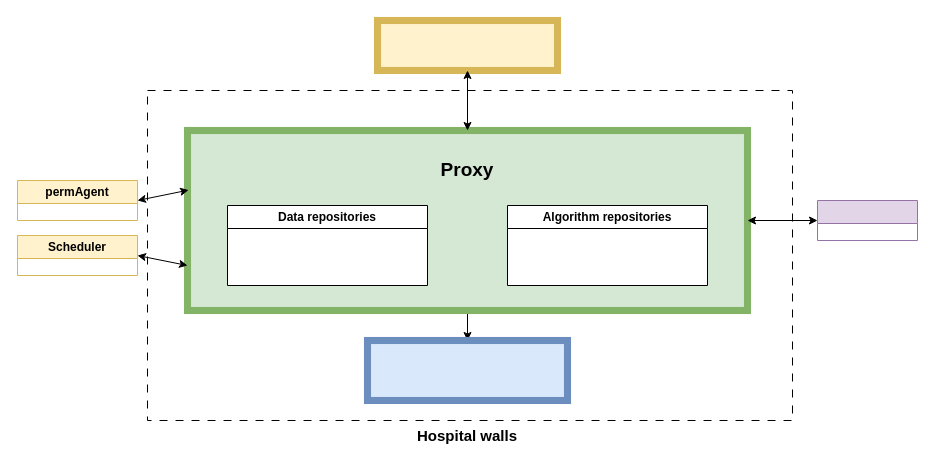
Image size: 935x468. Some labels were removed from this diagram. Here are the shapes that lost their labels. From the top down, the centre of each, then its label:
At pixel 467 45: "GUI".
At pixel 867 220: "B&C Agent".
At pixel 467 370: "Processor".
